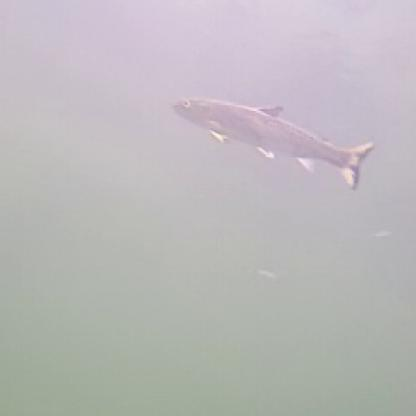salmon: (168, 92, 376, 191)
